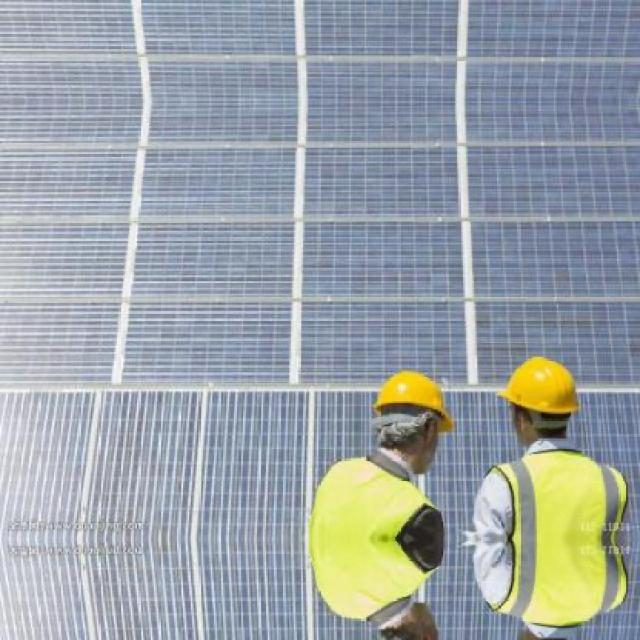Reflective-Jacket: (477, 443, 635, 589), (297, 449, 449, 566)
Safety-Helmet: (488, 349, 590, 426), (362, 362, 462, 438)
